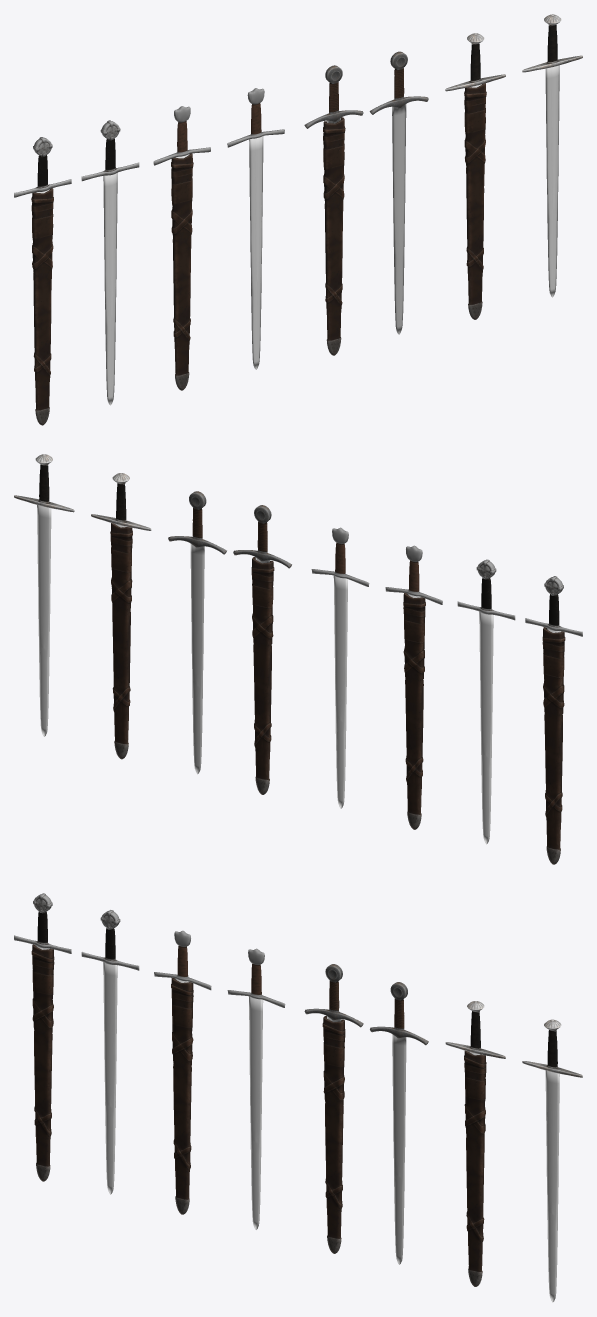
Rendered from Swords_packed_final.fbx.
3 views of the same model, one above another, from view 1: azimuth 30°, elevation 25°; view 2: azimuth 150°, elevation 25°; view 3: azimuth 330°, elevation 25° (orthographic).
Visible parts, largest first — view 1: CASE.003, CASE.001, CASE.002, CASE.004, Sword.003, Sword.005, Sword.006, Sword.008, Sword.001, RetopoGroup1.002, RetopoGroup1.001, RetopoGroup1_01.001 (+3 smaller); view 2: CASE.001, CASE.003, CASE.002, CASE.004, Sword.003, Sword.006, Sword.008, Sword.005, Sword.001, RetopoGroup1.002, RetopoGroup1.001, RetopoGroup1_01.001 (+3 smaller); view 3: CASE.001, CASE.003, CASE.002, CASE.004, Sword.003, Sword.005, Sword.006, Sword.008, Sword.001, RetopoGroup1.002, RetopoGroup1.001, RetopoGroup1_01.001 (+3 smaller).
Boxes of the visible parts, left/top/right/bottom form: CASE.003: left=31, top=188, right=53, bottom=410; CASE.001: left=323, top=117, right=345, bottom=340; CASE.002: left=171, top=153, right=193, bottom=375; CASE.004: left=464, top=83, right=486, bottom=305; Sword.003: left=369, top=51, right=428, bottom=334; Sword.005: left=249, top=136, right=263, bottom=369; Sword.006: left=103, top=173, right=117, bottom=405; Sword.008: left=545, top=65, right=559, bottom=297; Sword.001: left=304, top=65, right=363, bottom=128; RetopoGroup1.002: left=81, top=120, right=139, bottom=181; RetopoGroup1.001: left=14, top=137, right=71, bottom=197; RetopoGroup1_01.001: left=522, top=14, right=582, bottom=72; CASE.001: left=251, top=557, right=274, bottom=780; CASE.003: left=542, top=627, right=565, bottom=849; CASE.002: left=403, top=593, right=425, bottom=815; CASE.004: left=110, top=523, right=132, bottom=744; Sword.003: left=168, top=491, right=226, bottom=774; Sword.006: left=479, top=612, right=493, bottom=844; Sword.008: left=37, top=505, right=51, bottom=736; Sword.005: left=333, top=576, right=347, bottom=808; Sword.001: left=233, top=505, right=291, bottom=568; RetopoGroup1.002: left=457, top=559, right=515, bottom=620; RetopoGroup1.001: left=525, top=576, right=582, bottom=636; RetopoGroup1_01.001: left=14, top=454, right=74, bottom=512; CASE.001: left=322, top=1016, right=345, bottom=1239; CASE.003: left=31, top=944, right=54, bottom=1166; CASE.002: left=171, top=978, right=193, bottom=1200; CASE.004: left=464, top=1050, right=486, bottom=1272; Sword.003: left=370, top=982, right=428, bottom=1264; Sword.005: left=249, top=996, right=263, bottom=1229; Sword.006: left=103, top=962, right=117, bottom=1194; Sword.008: left=545, top=1070, right=559, bottom=1302; Sword.001: left=304, top=964, right=363, bottom=1027; RetopoGroup1.002: left=81, top=910, right=139, bottom=970; RetopoGroup1.001: left=14, top=893, right=71, bottom=953; RetopoGroup1_01.001: left=522, top=1019, right=582, bottom=1077.
Bounding box in the file's own units: 451 × 219 × 11.94.
